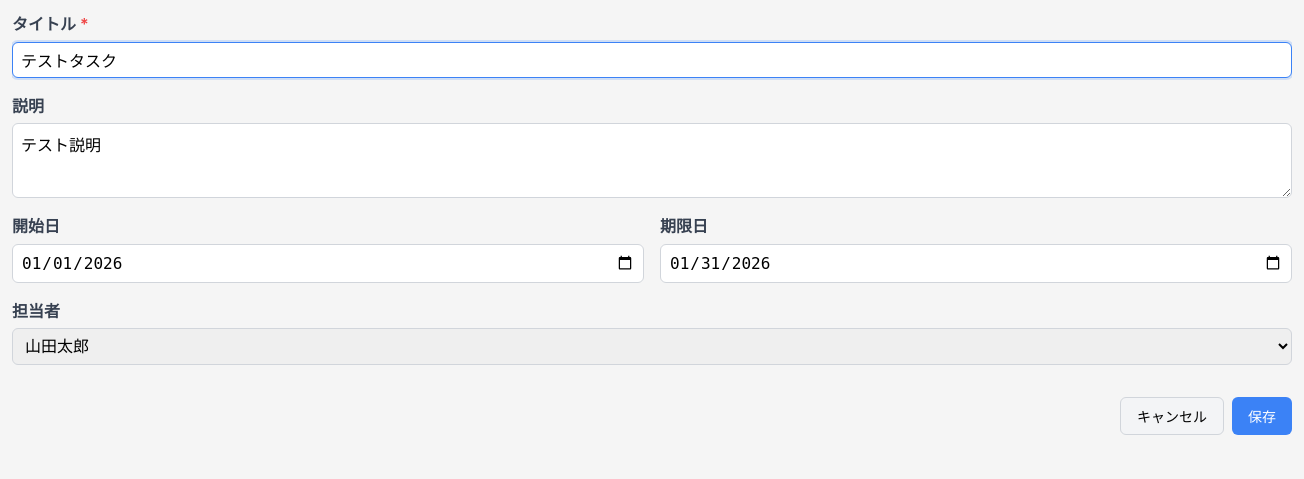
TodoEditForm › バリデーション › タイトルが空の場合、エラーメッセージが表示される
Clear the field with id "edit-title" at x=652, y=60, box [12,42,1292,78]
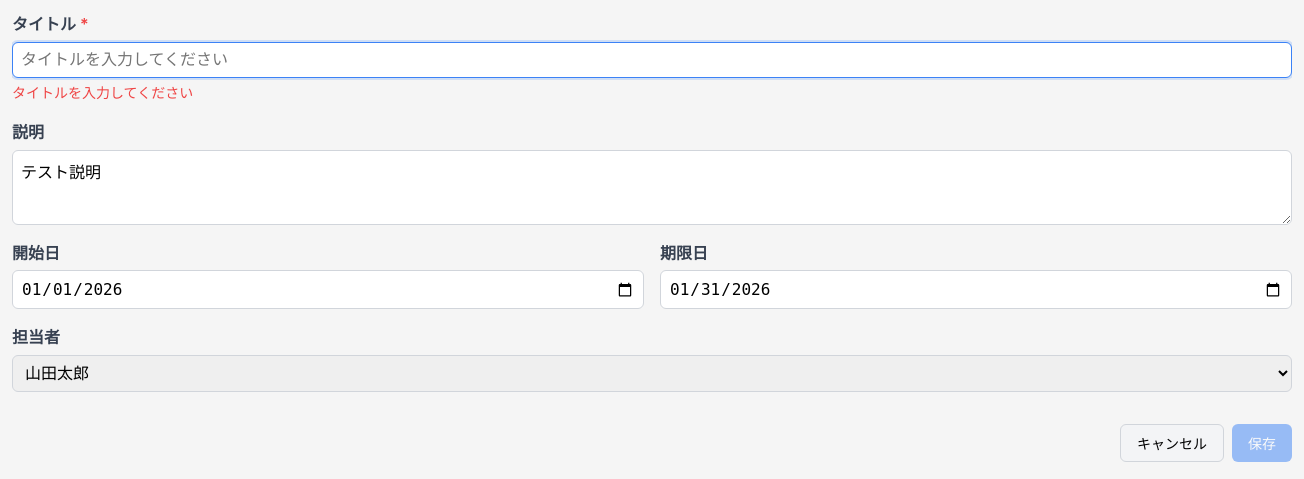
Now the text with class "error-message" reads "タイトルを入力してください", box [12,84,193,101]
